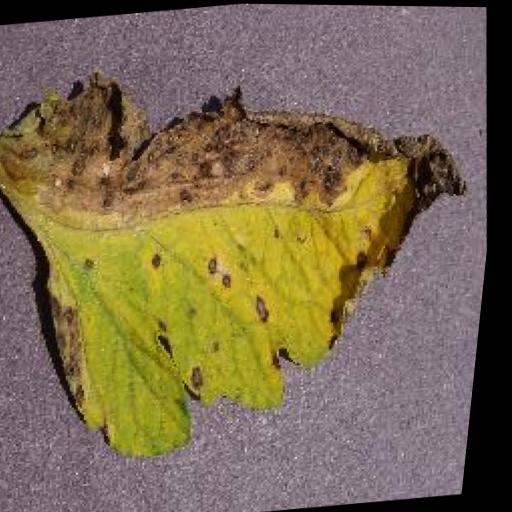Septoria: (0, 43, 508, 475)
